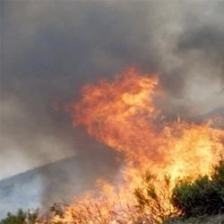fire: (54, 69, 224, 223)
smoke: (9, 6, 220, 64)
